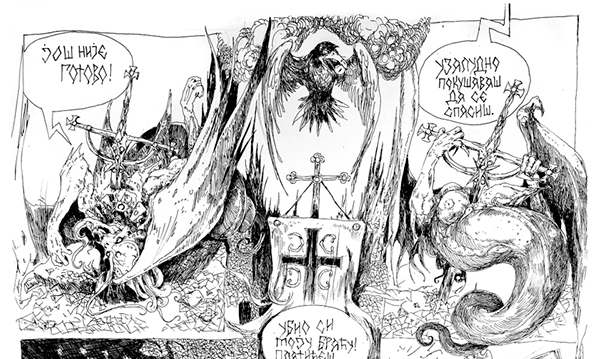bird: (256, 36, 396, 200)
